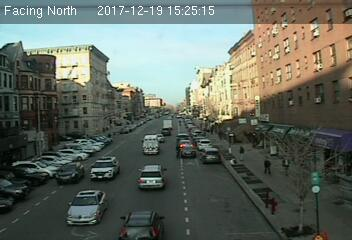car: (118, 208, 165, 240), (65, 190, 107, 223), (136, 164, 168, 188), (55, 162, 83, 183), (202, 148, 220, 161), (178, 140, 193, 150), (161, 127, 170, 135)
police: (89, 156, 121, 179)
truck: (141, 135, 160, 155)
